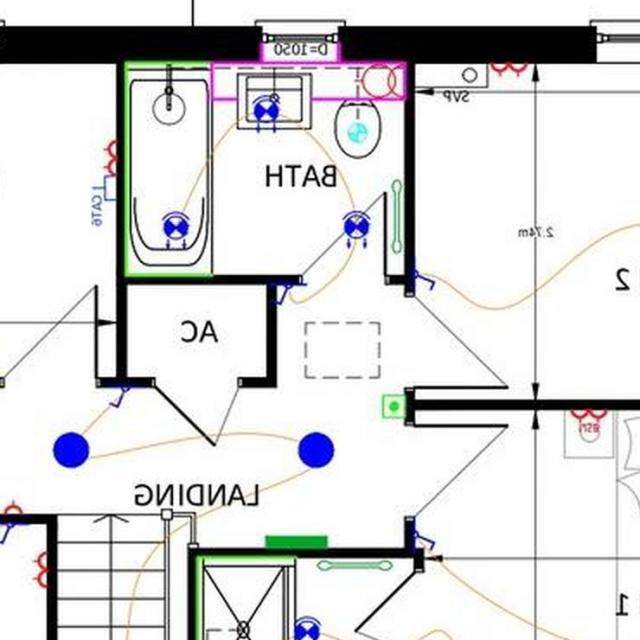Cat 6 Data Socket: (90, 176, 118, 226)
Ceiling Mounted Continuous Extract FanWith Boost Mode Activated By Light Switch: (348, 123, 368, 141)
Double Socket: (33, 551, 48, 588), (103, 139, 118, 175), (492, 62, 528, 77)
Full Height Tiling: (126, 60, 211, 275), (196, 555, 296, 640)
Light Switch: (415, 269, 436, 290), (110, 387, 131, 408), (415, 529, 436, 549), (0, 522, 17, 543), (278, 284, 295, 304)
Low Energy Downlighter: (343, 210, 371, 248), (253, 95, 281, 132), (164, 211, 191, 248), (296, 615, 322, 640)
Low Energy Pendant Light: (299, 432, 334, 467), (54, 432, 89, 467)
Programmable Room Thermostat: (382, 393, 407, 418)
Radiator: (265, 536, 328, 548)
Shaver Socket: (354, 64, 404, 98)
Single Socket: (4, 499, 23, 513)
USB Double Socket: (572, 408, 608, 432)
